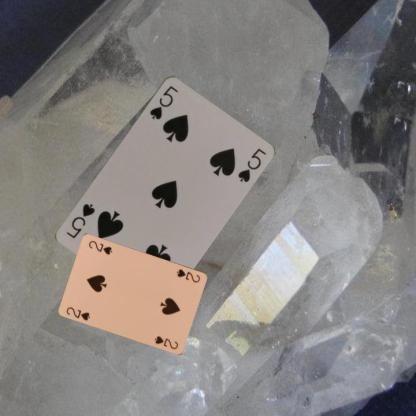2s: (174, 266, 202, 284), (64, 304, 92, 322)
5s: (146, 82, 180, 120)
